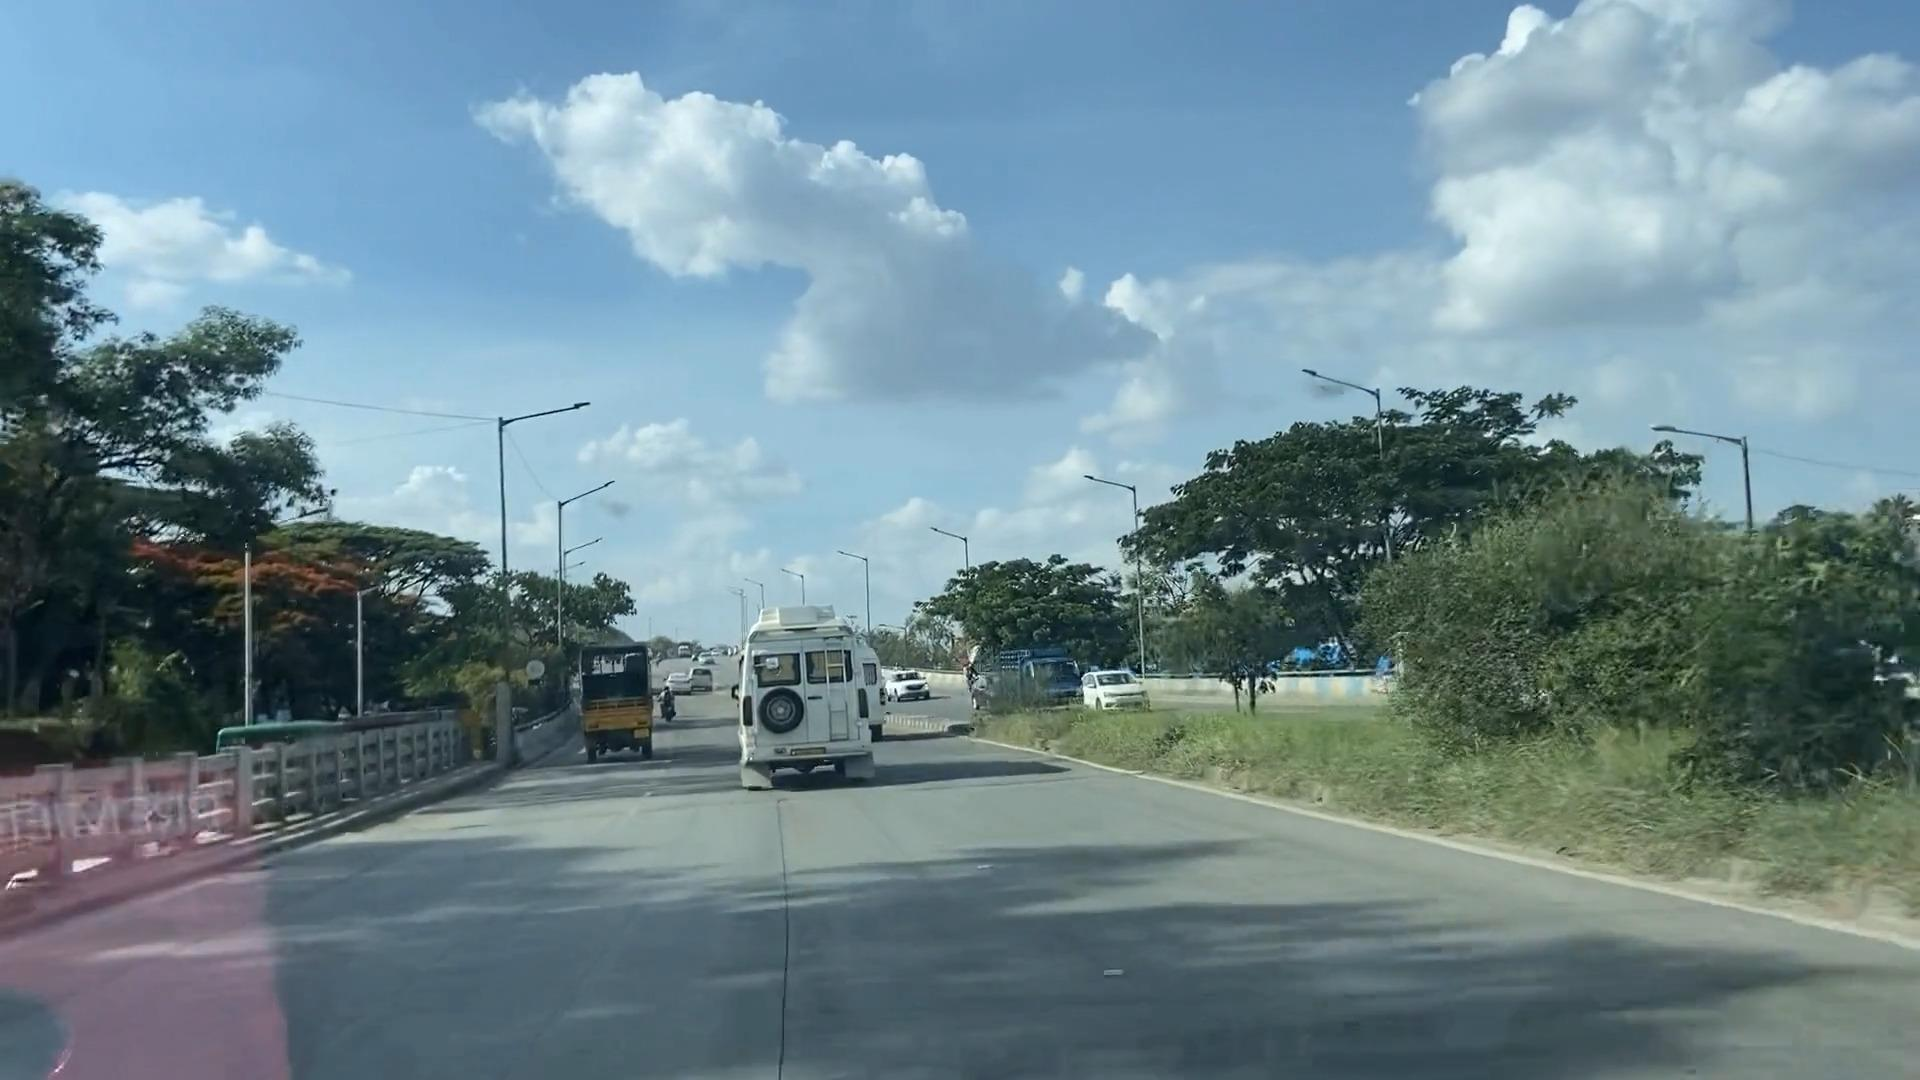HMV: (728, 600, 878, 786), (567, 634, 657, 764)
